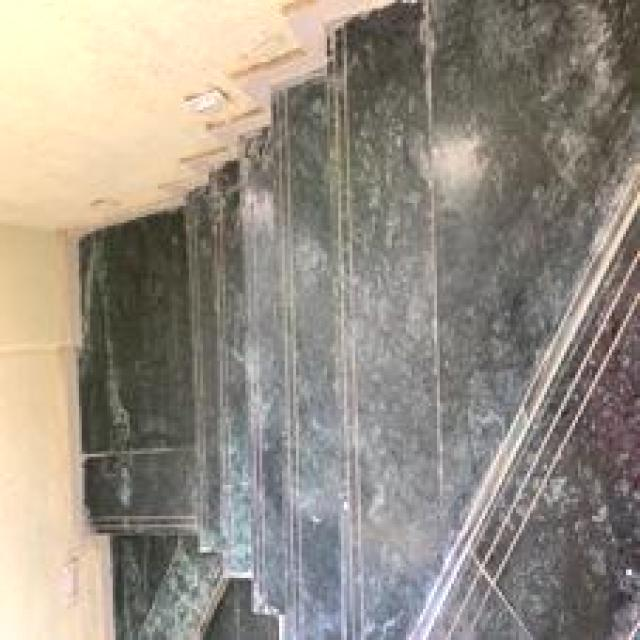stair: (104, 46, 509, 640)
